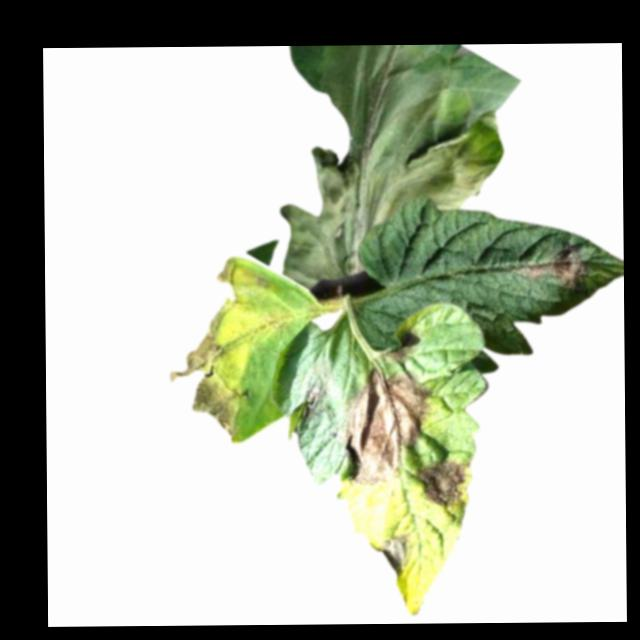Late_blight: (246, 85, 504, 282), (167, 262, 290, 443), (342, 364, 430, 486), (520, 246, 585, 288), (297, 360, 333, 433), (415, 458, 466, 509), (383, 529, 413, 575), (388, 346, 413, 363)
